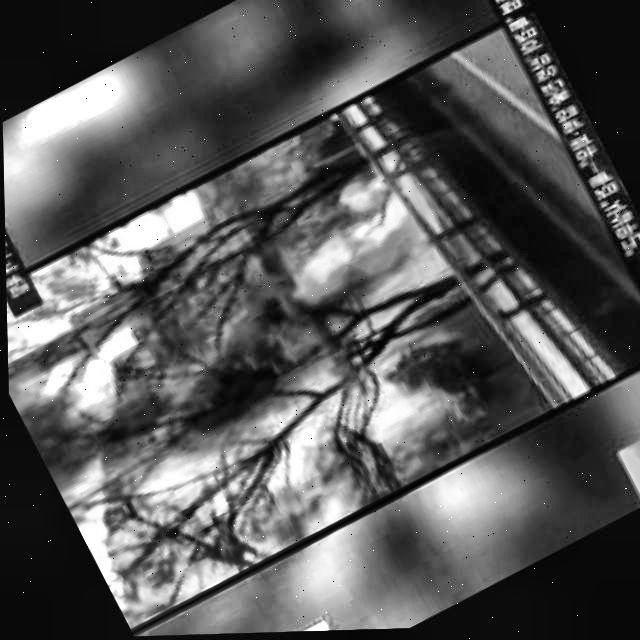Fire: (296, 188, 434, 304), (334, 161, 406, 209)
Smoke: (60, 319, 491, 639)
